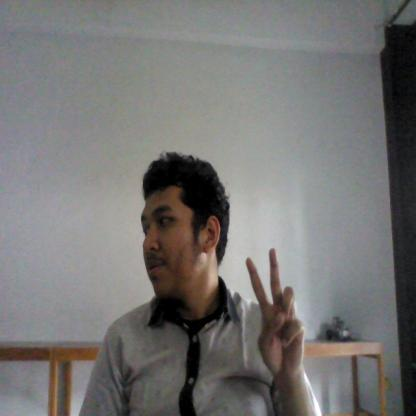V: (244, 247, 306, 382)
